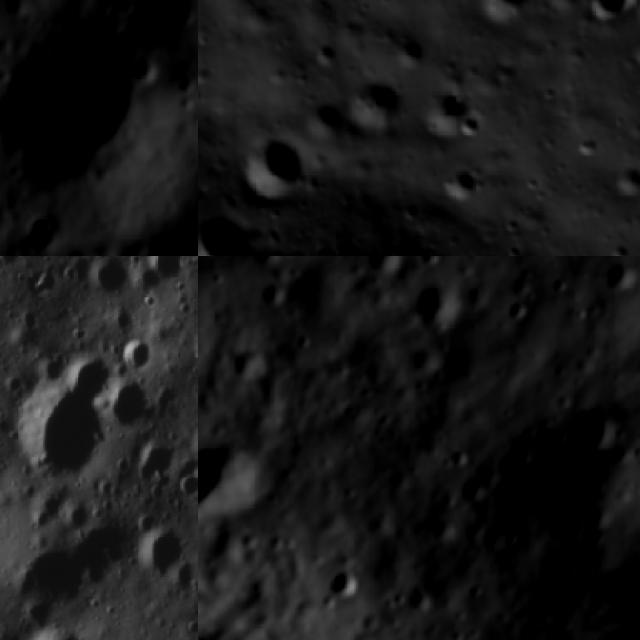crater: (10, 21, 131, 186), (198, 417, 290, 553), (11, 386, 109, 495), (57, 504, 151, 597), (238, 128, 327, 211), (2, 539, 84, 619), (548, 394, 628, 474), (337, 72, 413, 139), (401, 270, 472, 341), (133, 510, 184, 584), (102, 380, 155, 437), (63, 351, 120, 403), (81, 256, 137, 307), (198, 209, 258, 256), (315, 558, 368, 611), (386, 18, 442, 67), (422, 91, 473, 139), (142, 256, 197, 299), (439, 160, 488, 208), (24, 488, 75, 534), (134, 436, 178, 487), (591, 256, 640, 301), (449, 471, 494, 515), (494, 291, 538, 334), (116, 335, 156, 377), (34, 349, 74, 391), (440, 438, 480, 478), (250, 276, 290, 316), (33, 618, 98, 640), (24, 211, 61, 248), (584, 0, 625, 31), (484, 0, 539, 20), (132, 52, 164, 84), (174, 466, 198, 503), (168, 3, 198, 26), (242, 256, 286, 270), (183, 423, 198, 463), (178, 67, 198, 91), (64, 240, 93, 256), (178, 92, 197, 113), (0, 256, 26, 271)
